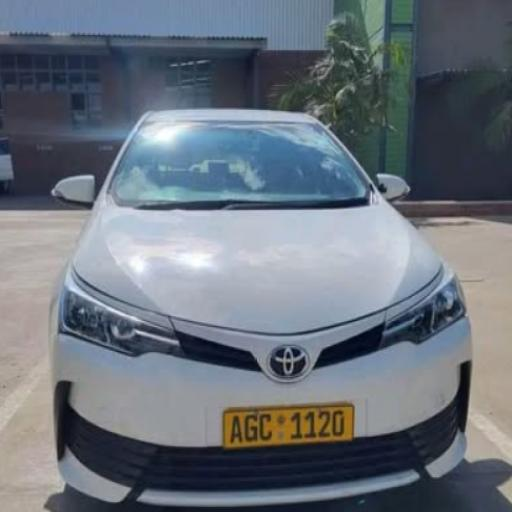number-plates: (223, 404, 356, 443)
